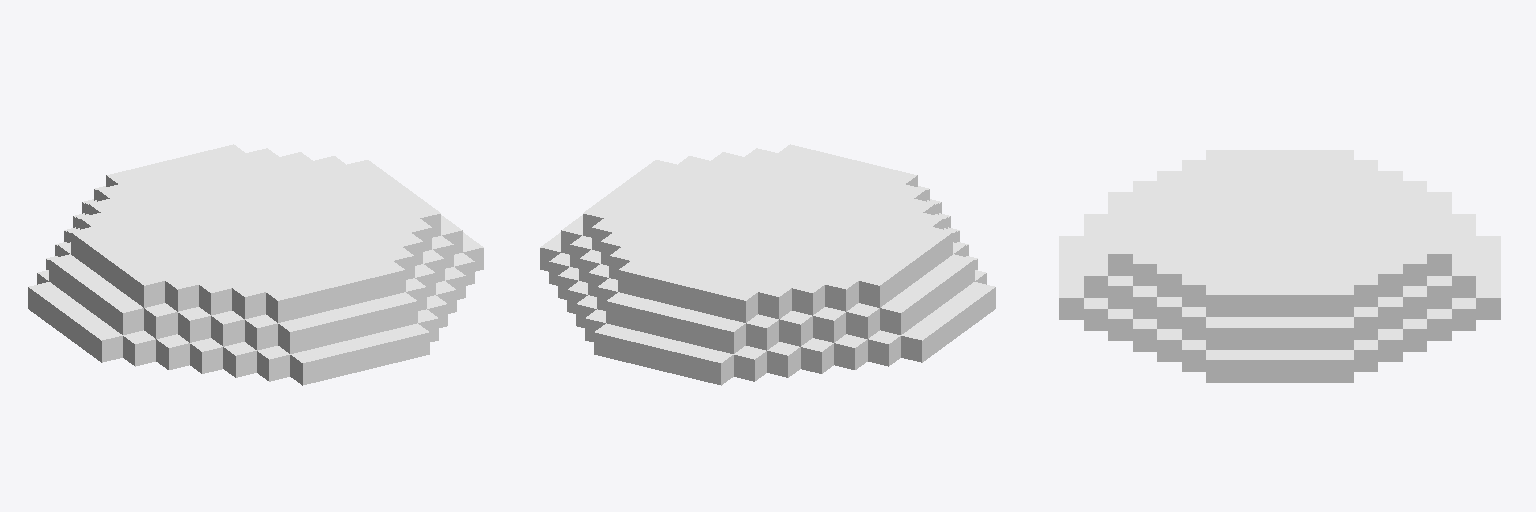
Rendered from ClamBump.obj.
3 renders of one model, left to right at view 1: azimuth 30°, elevation 25°; view 2: azimuth 150°, elevation 25°; view 3: azimuth 270°, elevation 25°, orthographic.
Visible parts, largest first — view 1: object 1; view 2: object 1; view 3: object 1.
Boxes of the visible parts, box(x1,y1,x2,y2) form: object 1: box(28, 144, 483, 385); object 1: box(540, 144, 995, 385); object 1: box(1059, 150, 1500, 382).
Bounding box in the file's own units: 1.8 × 0.3 × 1.8.